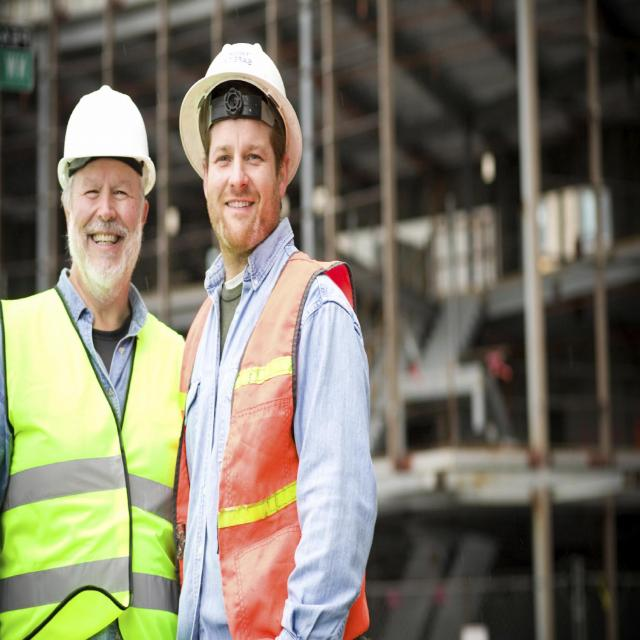Reflective-Jacket: (181, 248, 360, 636), (1, 287, 189, 635)
Safety-Helmet: (54, 80, 159, 192)
